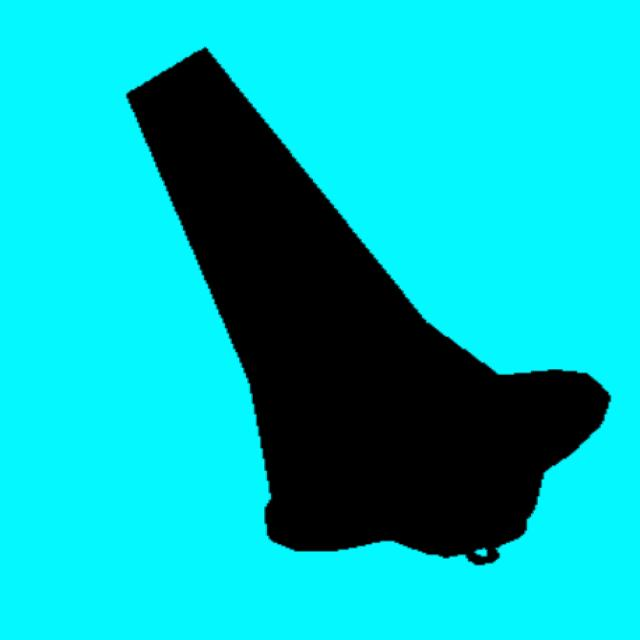BlackBuoy: (128, 50, 608, 563)
